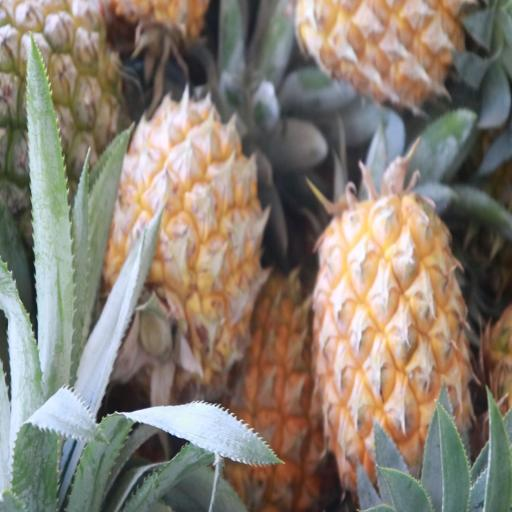Pineapple - v8 v1: (319, 191, 470, 500), (115, 96, 266, 384), (216, 276, 329, 512)
